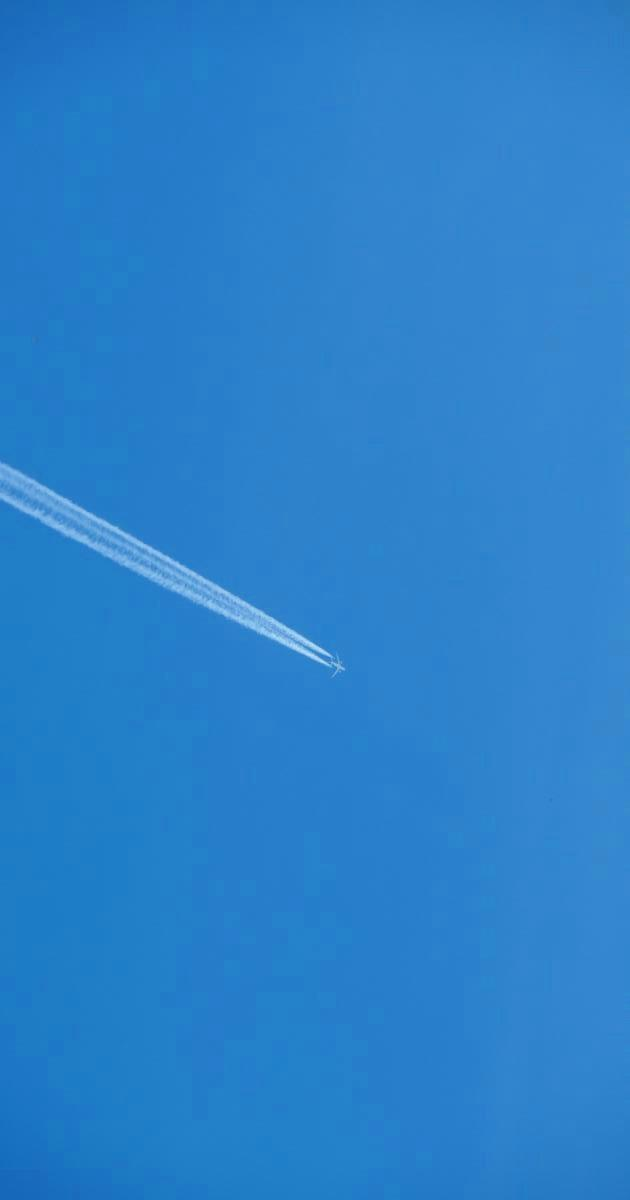Plane: (0, 427, 355, 730)
